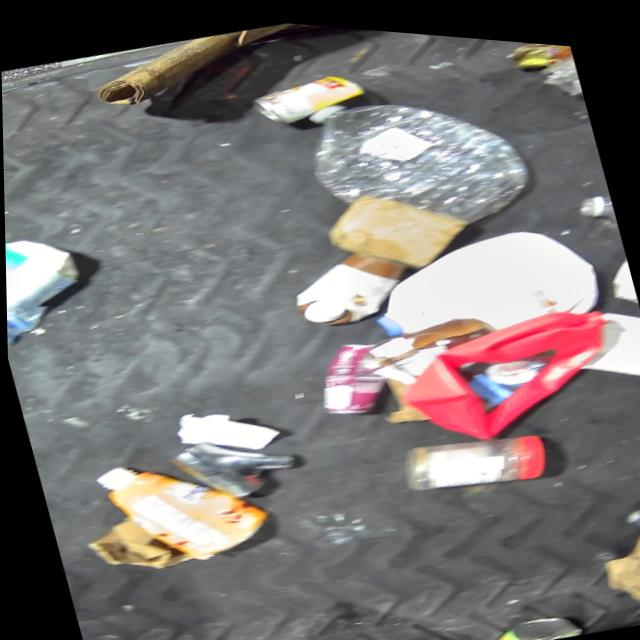can: (248, 57, 373, 127), (469, 595, 586, 640), (306, 330, 370, 407)
milk_jug: (359, 201, 590, 353)
non_white_jug: (395, 279, 640, 451), (81, 431, 277, 586)
plastic_bottle: (294, 56, 526, 242)
